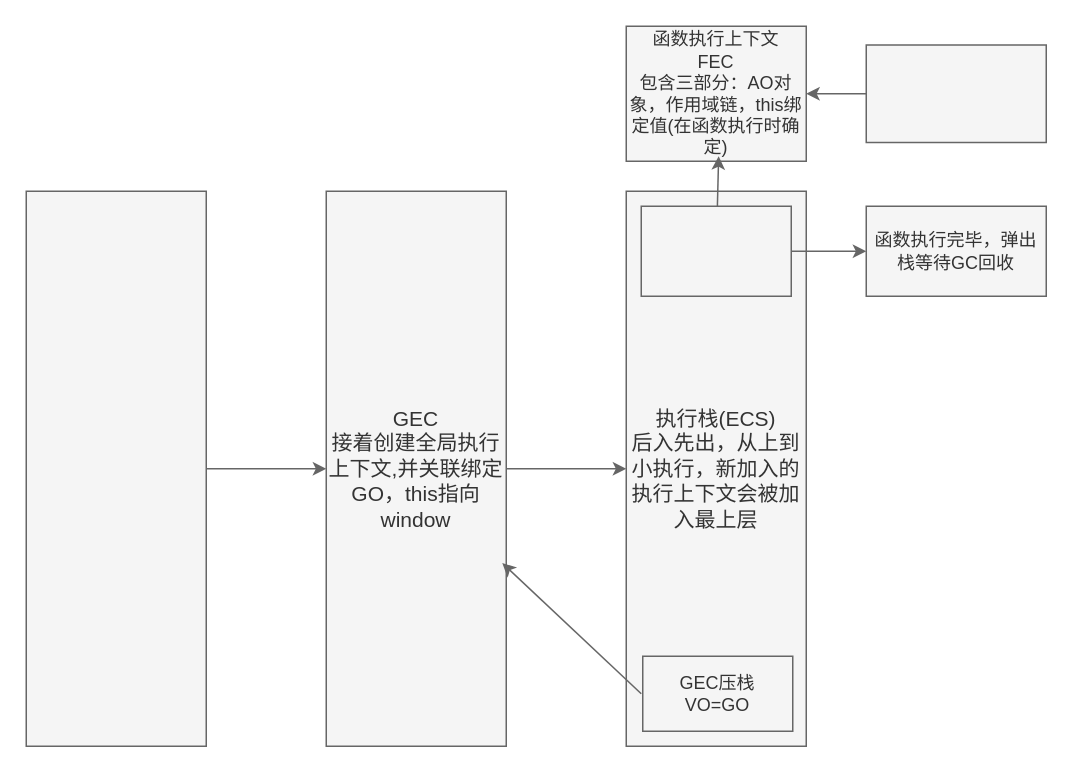
This 1073x773 diagram has some shape labels left out. The box of each missing label's shape, as (x1, y1, x2, y2) in pixels:
FEC 最上层加入 VO=AO: (640, 205, 791, 296)
全局对象GO(Window) 变量和函数声明提升都是在这步完成，js内置属性和方法等也是此时被添加创建: (25, 190, 206, 746)
当遇到函数执行时创建: (865, 44, 1046, 142)
